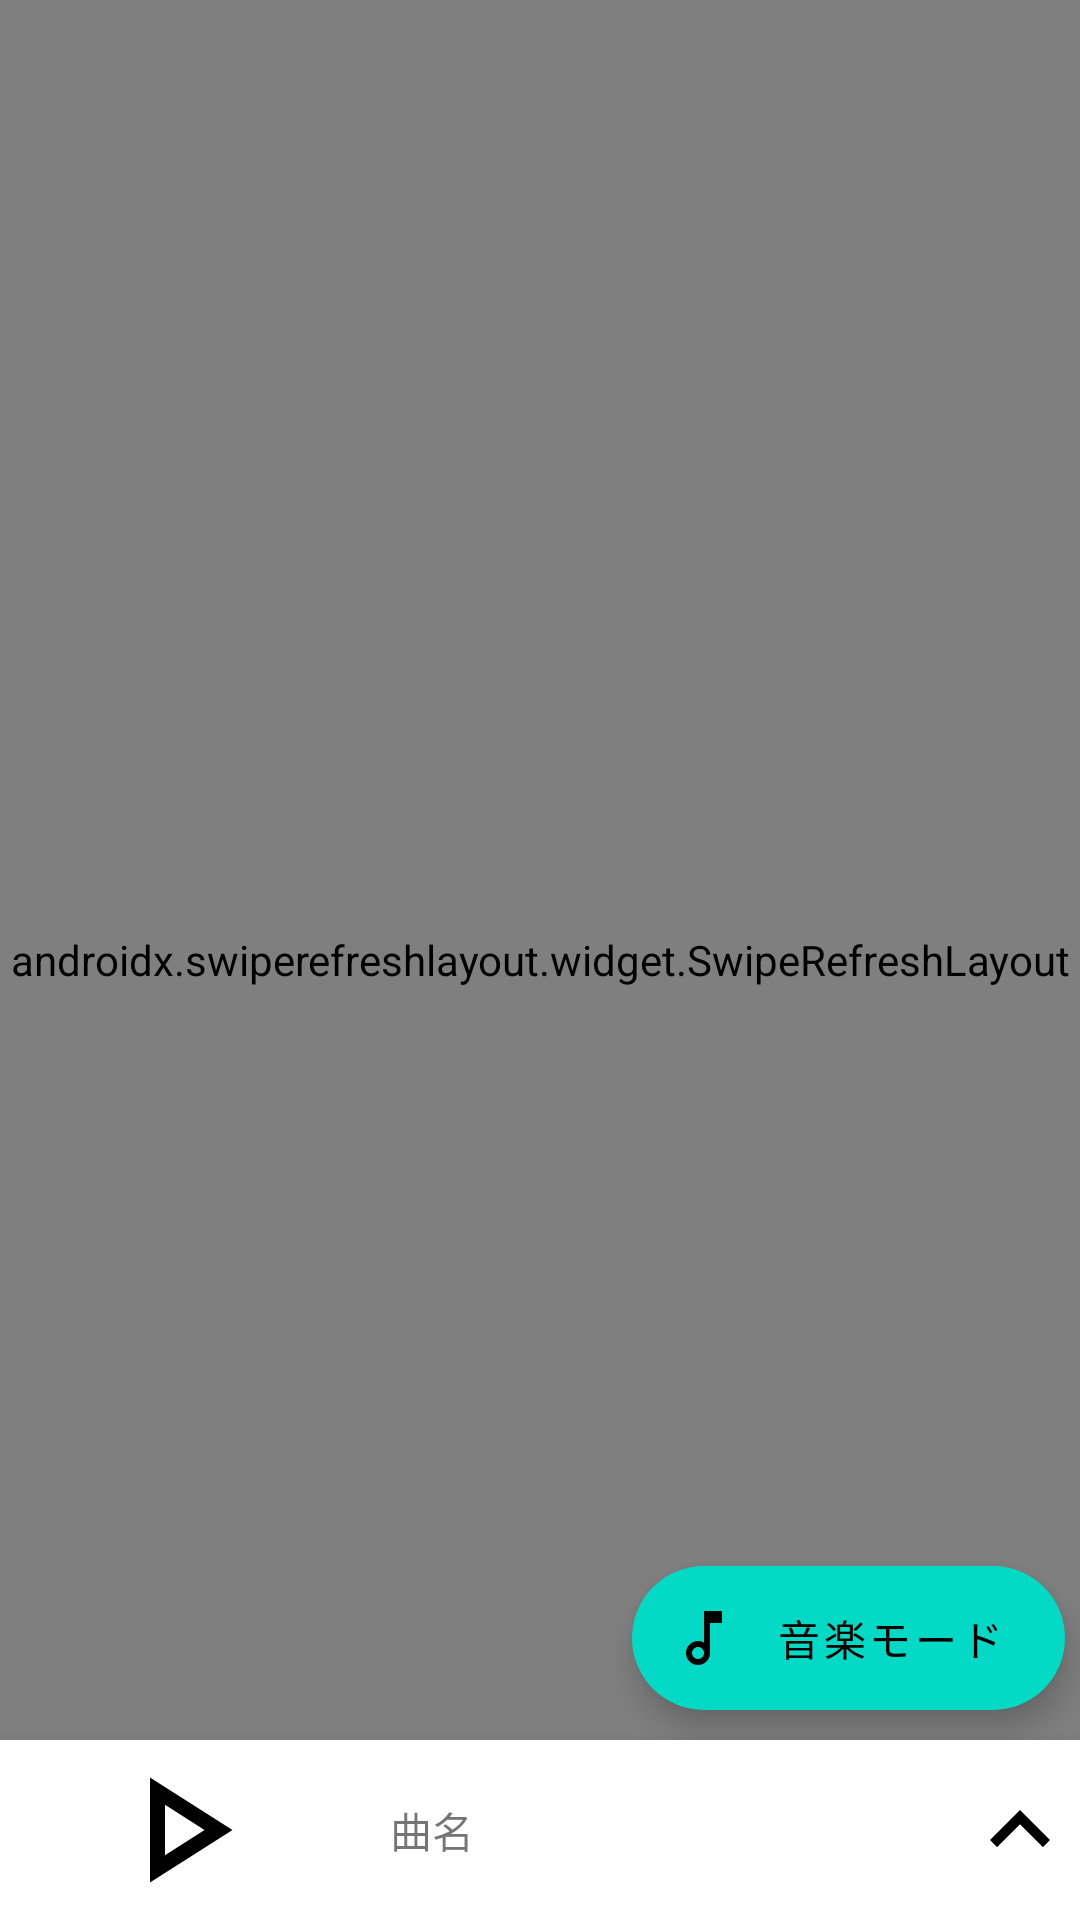

Icons on this 1080px×1920px Android screen, each with the point to tap as point (x, y):
expand less: point (1020, 1828)
play arrow: point (191, 1830)
